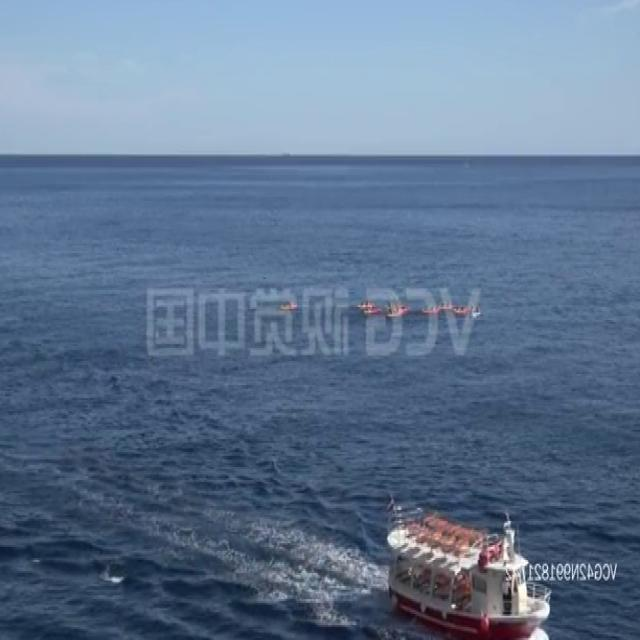houseboat: (389, 504, 549, 639), (274, 293, 300, 317), (355, 297, 382, 319), (386, 298, 411, 318), (458, 301, 480, 320), (422, 302, 441, 316), (438, 298, 456, 312)
